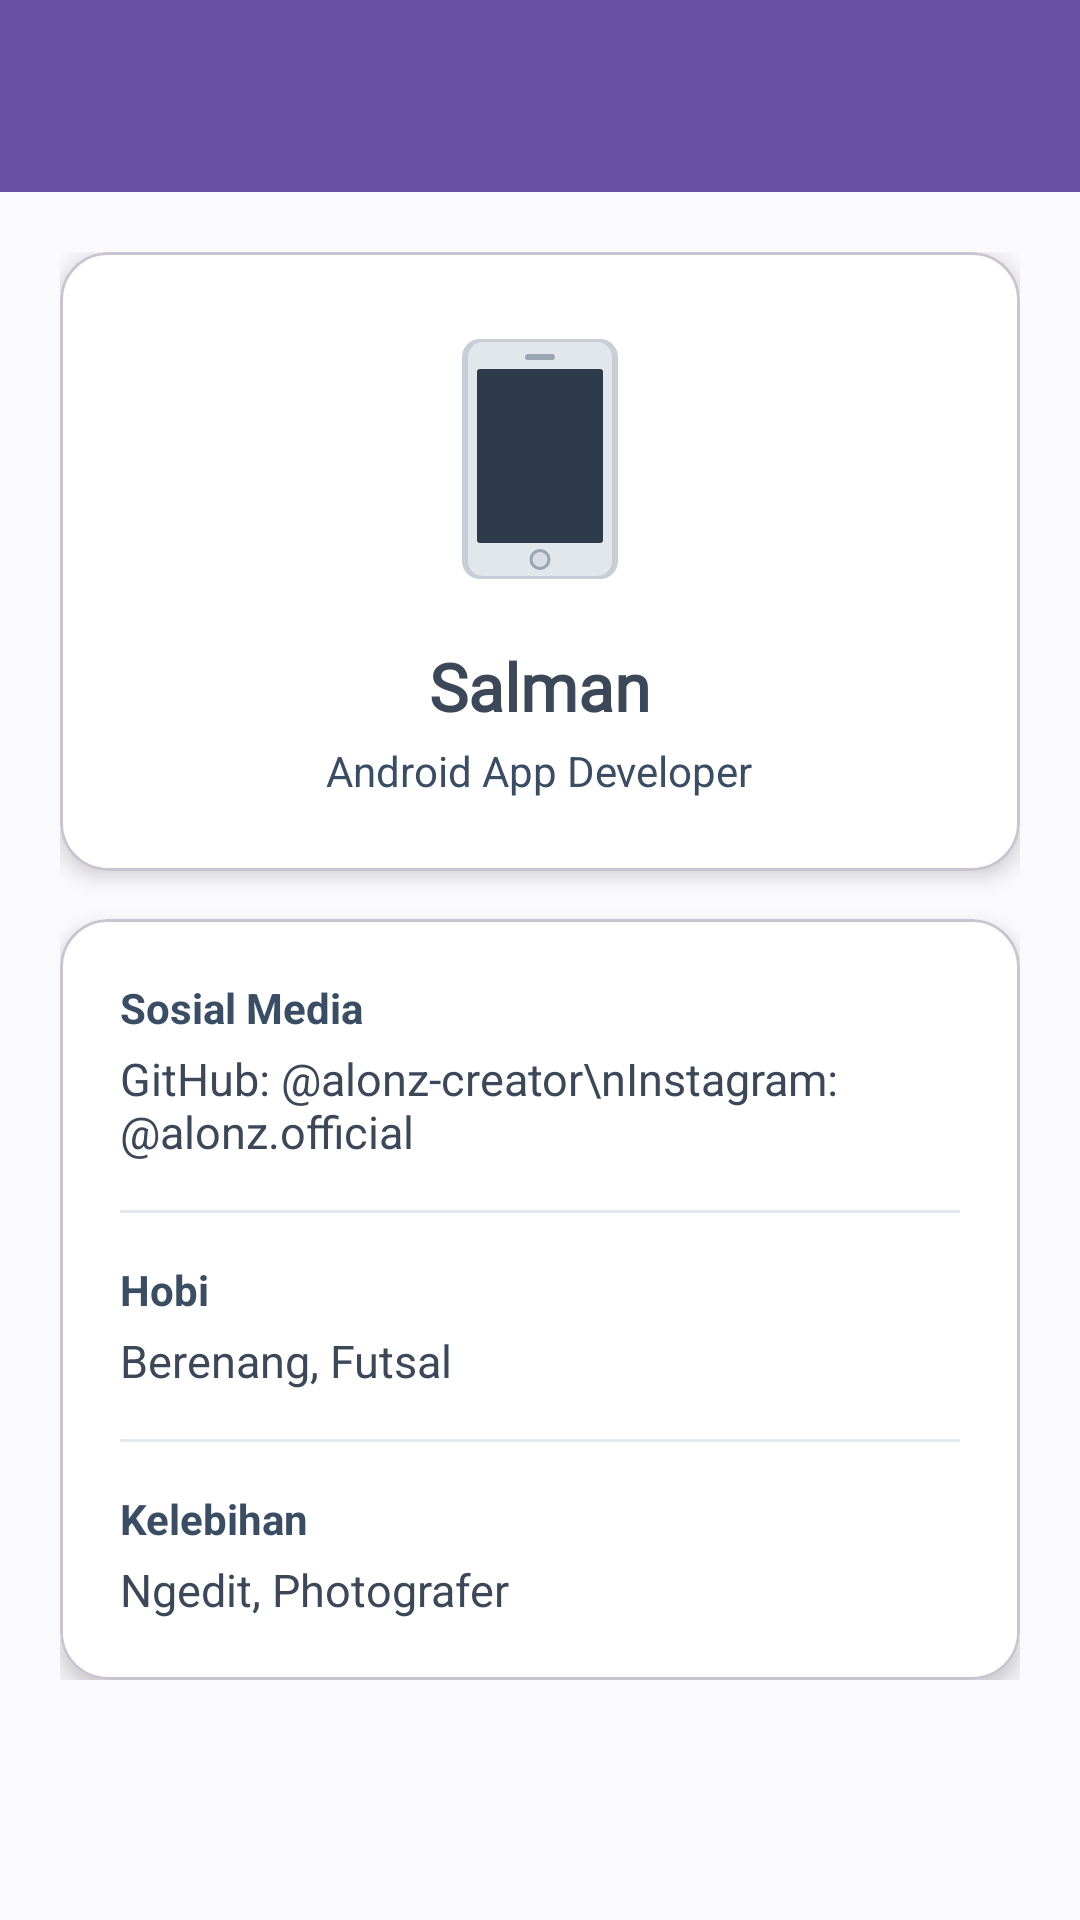

Icon click points for this 1080px×1920px phone screenshot, format [x,y]:
Gambar Smartphone: [540,459]
